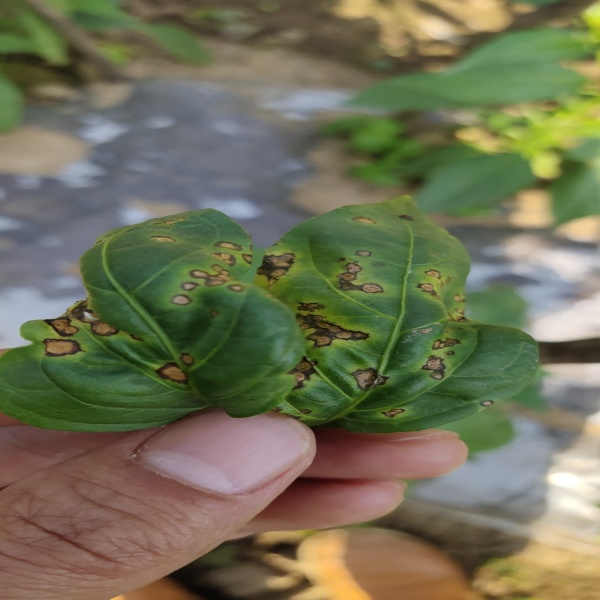Anthrax: (258, 248, 393, 391), (151, 228, 253, 306), (42, 299, 146, 363), (414, 269, 470, 382), (155, 348, 198, 387), (351, 209, 416, 229), (274, 401, 313, 421), (381, 403, 409, 423), (479, 396, 496, 411)
